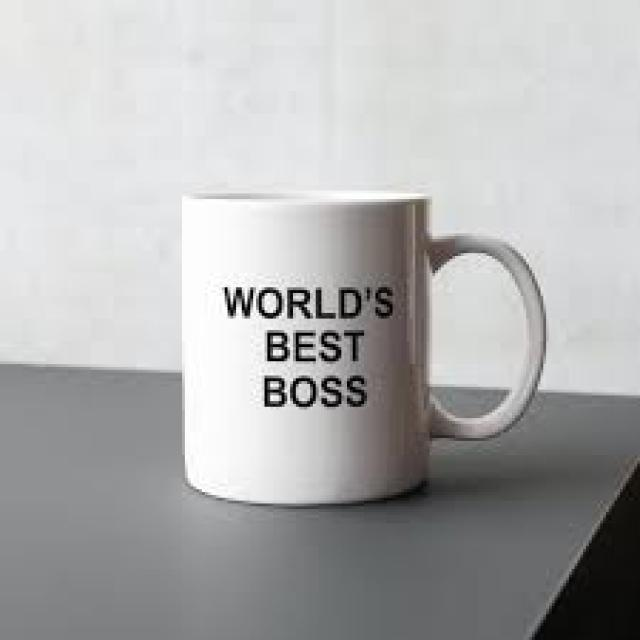taza: (178, 191, 546, 508)
